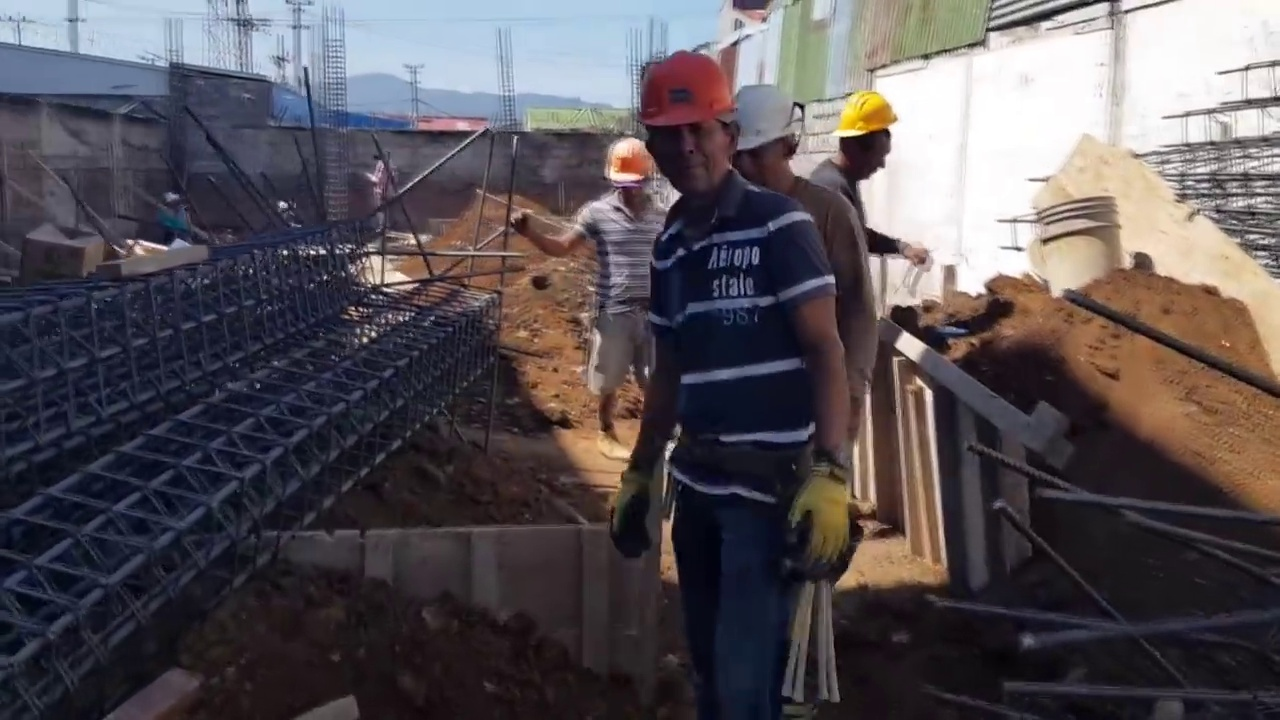helmet: (639, 49, 736, 131), (730, 80, 806, 152), (835, 88, 901, 138), (605, 135, 658, 187)
helmet-off: (372, 153, 382, 166)
helmet-on: (637, 45, 742, 199), (730, 81, 806, 186), (835, 88, 901, 179), (604, 137, 660, 205)
person: (615, 90, 840, 689), (728, 82, 877, 466), (508, 135, 674, 449), (804, 71, 942, 276), (364, 153, 398, 235)
